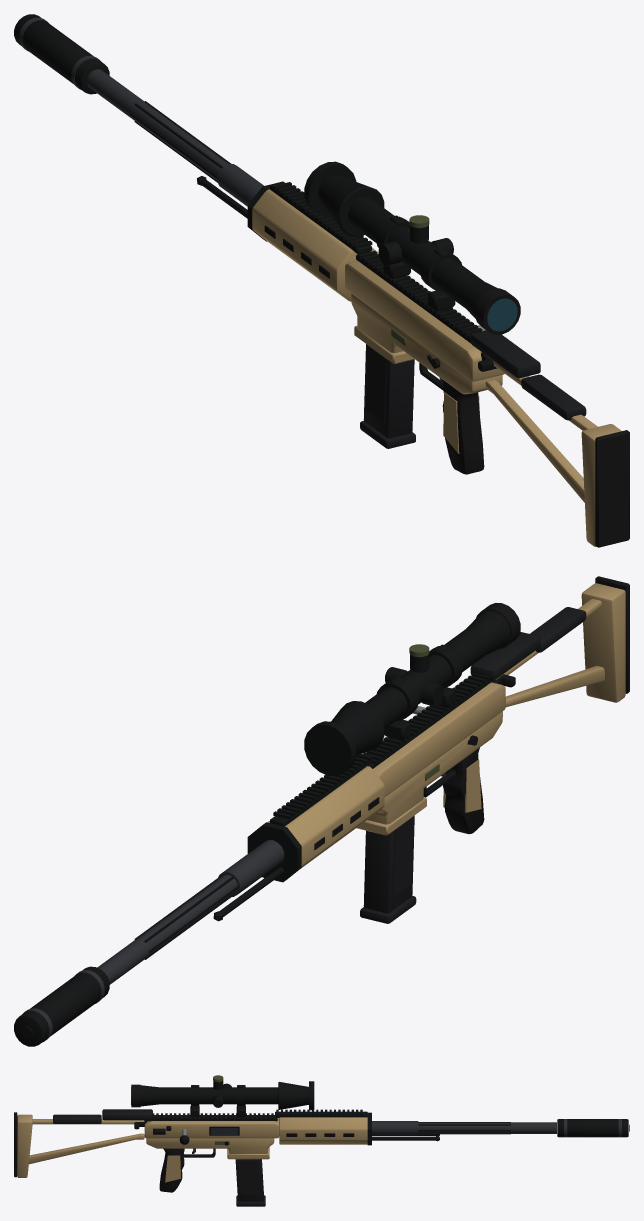
Rendered from gun_32.glb.
3 views of the same model, one above another, from view 1: azimuth 30°, elevation 25°; view 2: azimuth 150°, elevation 25°; view 3: azimuth 270°, elevation 25° (orthographic). The views are drawn at different scales.
Parts seen in each view (by area): view 1: gun_32; view 2: gun_32; view 3: gun_32.
Part boxes in pixels (x1=…): gun_32: x1=14, y1=14, x2=629, y2=547; gun_32: x1=14, y1=576, x2=629, y2=1046; gun_32: x1=14, y1=1075, x2=629, y2=1206.
Size of the model in its own units: 0.1254 by 0.3295 by 1.46.
